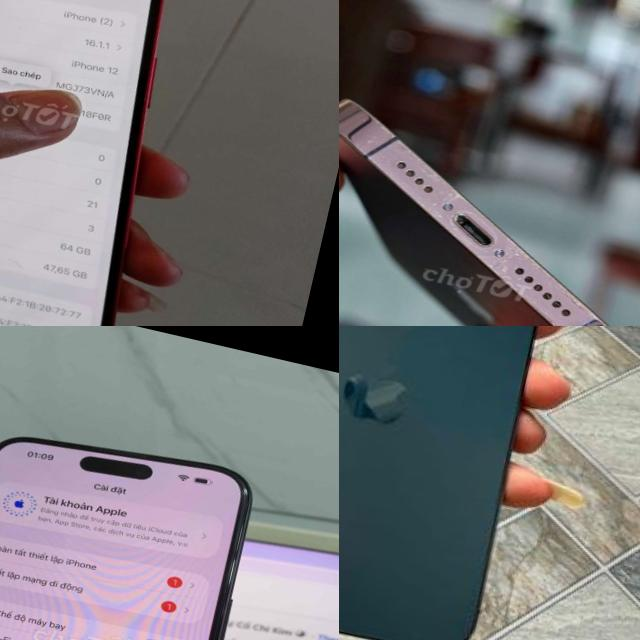gen_12_13: (339, 326, 591, 640), (0, 0, 204, 326)
gen_14: (339, 80, 640, 326)
gen_15: (0, 388, 272, 640)
scratch: (384, 154, 530, 278), (502, 234, 611, 317), (359, 122, 399, 154)
